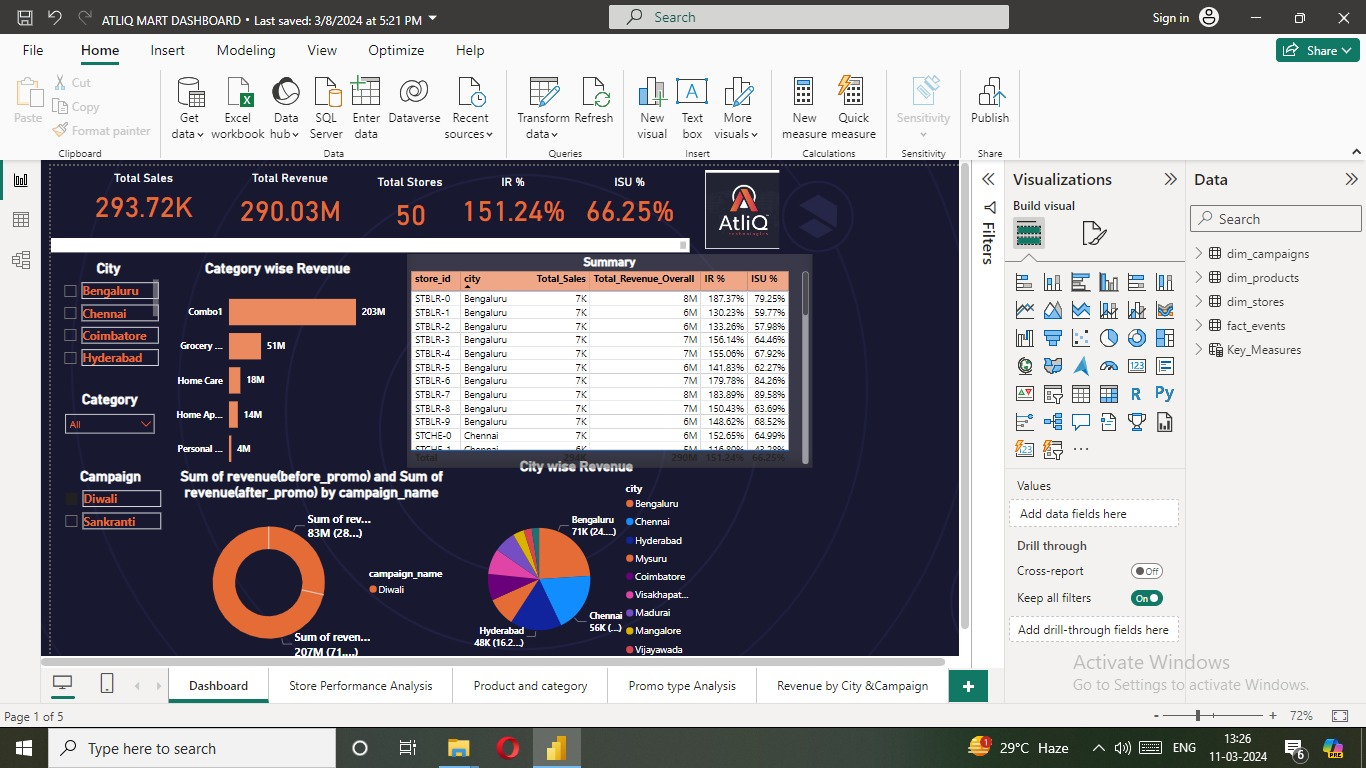

The page's visual inventory and layout, read from the dashboard file:
{"tool":"powerbi","page":{"name":"Dashboard","canvas":[1280,720],"ordinal":0},"visuals":[{"type":"image","box":[887.5,0,143.8,120],"z":0},{"type":"card","title":"Total Sales","fields":{"Values":["Key_Measures.Total_Sales"]},"box":[52.9,5.7,151.4,77.1],"z":1000},{"type":"card","title":"Total Revenue","fields":{"Values":["Key_Measures.Total_Revenue_Overall"]},"box":[254.3,5.7,155.7,88.6],"z":2000},{"type":"card","title":"Total Stores","fields":{"Values":["Key_Measures.Total_Stores"]},"box":[444.3,11.4,108.6,88.6],"z":3000},{"type":"card","title":"IR %","fields":{"Values":["Key_Measures.IR %"]},"box":[562.9,11.4,158.6,77.1],"z":4000},{"type":"card","title":"ISU %","fields":{"Values":["Key_Measures.ISU %"]},"box":[721.4,11.4,165.7,77.1],"z":5000},{"type":"textbox","box":[0,100,887.1,20],"z":6000},{"type":"slicer","title":"City","fields":{"Values":["dim_stores.city"]},"box":[5.7,130,148.6,158.6],"z":7000},{"type":"slicer","title":"Category","fields":{"Values":["dim_products.category"]},"box":[10,312.9,144.3,165.7],"z":8000},{"type":"slicer","title":"Campaign","fields":{"Values":["dim_campaigns.campaign_name"]},"box":[7.1,420,151.4,115.7],"z":9000},{"type":"clusteredBarChart","title":"Category wise Revenue","fields":{"Category":["dim_products.category"],"Y":["Key_Measures.Total_Revenue_Overall"]},"box":[154.3,130,321.4,305.7],"z":10000},{"type":"donutChart","fields":{"Category":["dim_campaigns.campaign_name"],"Y":["Sum(fact_events.revenue(before_promo))","Sum(fact_events.revenue(after_promo))"]},"box":[158.6,420,407.1,274.3],"z":11000},{"type":"pieChart","title":"City wise Revenue","fields":{"Y":["Key_Measures.Total_Sales"],"Category":["dim_stores.city"]},"box":[552.9,405.7,354.3,314.3],"z":12000},{"type":"tableEx","title":"Summary","fields":{"Values":["dim_stores.store_id","dim_stores.city","Key_Measures.Total_Sales","Key_Measures.Total_Revenue_Overall","Key_Measures.IR %","Key_Measures.ISU %"]},"box":[494.3,122.9,517.1,272.9],"z":13000}]}

Visuals, with their boxes on the page's 1280x720 design canvas (x1, y1, x2, y2). These are canvas units, not pixel positions in the 1366x768 screenshot, which may show the page scaled, cropped or inside an application window:
image: [left=888, top=0, right=1031, bottom=120]
"Total Sales" card: [left=53, top=6, right=204, bottom=83]
"Total Revenue" card: [left=254, top=6, right=410, bottom=94]
"Total Stores" card: [left=444, top=11, right=553, bottom=100]
"IR %" card: [left=563, top=11, right=722, bottom=88]
"ISU %" card: [left=721, top=11, right=887, bottom=88]
textbox: [left=0, top=100, right=887, bottom=120]
"City" slicer: [left=6, top=130, right=154, bottom=289]
"Category" slicer: [left=10, top=313, right=154, bottom=479]
"Campaign" slicer: [left=7, top=420, right=158, bottom=536]
"Category wise Revenue" clusteredBarChart: [left=154, top=130, right=476, bottom=436]
donutChart - dim_campaigns.campaign_name x Sum(fact_events.revenue(before_promo)): [left=159, top=420, right=566, bottom=694]
"City wise Revenue" pieChart: [left=553, top=406, right=907, bottom=720]
"Summary" tableEx: [left=494, top=123, right=1011, bottom=396]
